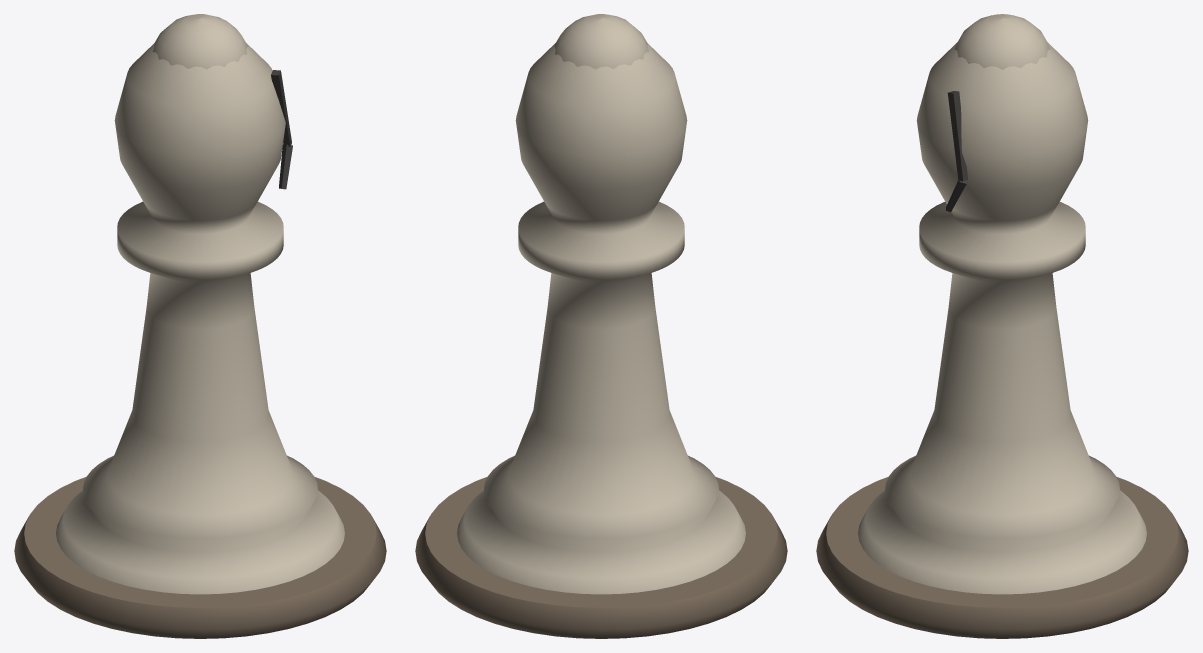
The model's file is Pawn.fbx.
3 views of the same model, side by side, from view 1: azimuth 30°, elevation 25°; view 2: azimuth 150°, elevation 25°; view 3: azimuth 270°, elevation 25° (orthographic).
Visible parts, largest first — view 1: Pawn; view 2: Pawn; view 3: Pawn.
Part boxes in pixels (left/top/right/bottom): Pawn: left=14, top=14, right=386, bottom=638; Pawn: left=415, top=14, right=787, bottom=638; Pawn: left=816, top=14, right=1188, bottom=638.
Size of the model in its own units: 7.6 by 12.3 by 7.6.
